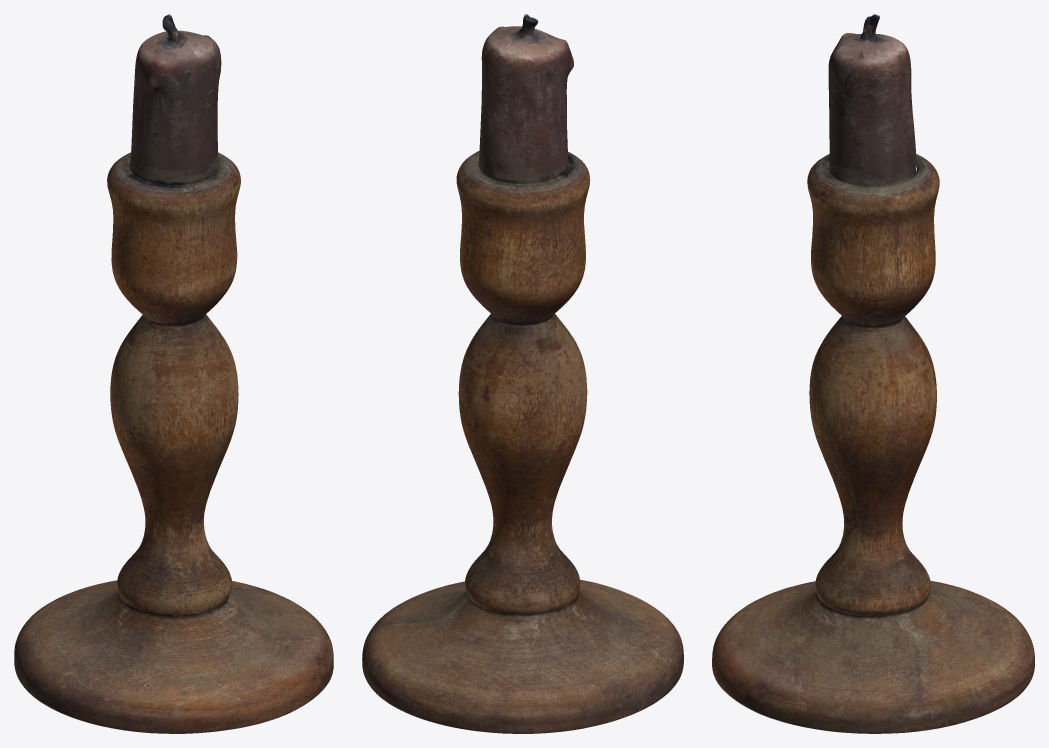
Rendered from wooden_candlestick.glb.
3 views of the same model, side by side, from view 1: azimuth 30°, elevation 25°; view 2: azimuth 150°, elevation 25°; view 3: azimuth 270°, elevation 25° (orthographic).
Visible parts, largest first — view 1: wooden_candlestick; view 2: wooden_candlestick; view 3: wooden_candlestick.
Boxes of the visible parts, x1,y1,x2,y2 form: wooden_candlestick: [14, 14, 333, 733]; wooden_candlestick: [362, 14, 683, 733]; wooden_candlestick: [712, 14, 1034, 733].
Size of the model in its own units: 0.0972 by 0.2197 by 0.0986.
Materials: 1 (1 with a texture image).
